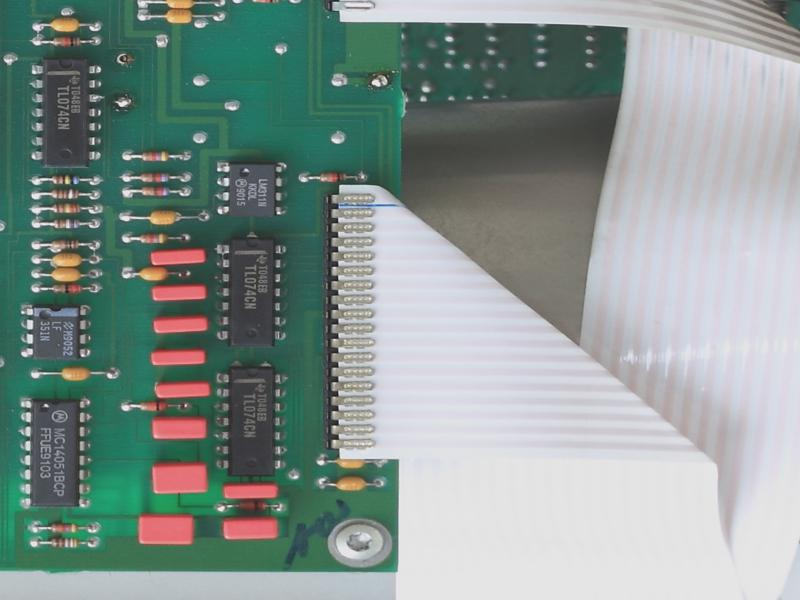Resistor: (129, 147, 182, 163), (39, 34, 94, 48), (42, 186, 89, 201), (45, 236, 86, 253), (39, 173, 91, 186), (41, 201, 91, 214), (134, 230, 173, 246), (46, 281, 87, 296), (311, 170, 350, 185), (136, 399, 171, 415), (46, 217, 85, 231), (47, 536, 82, 551), (46, 521, 82, 535), (136, 185, 174, 198), (137, 171, 177, 183), (234, 500, 269, 512)
